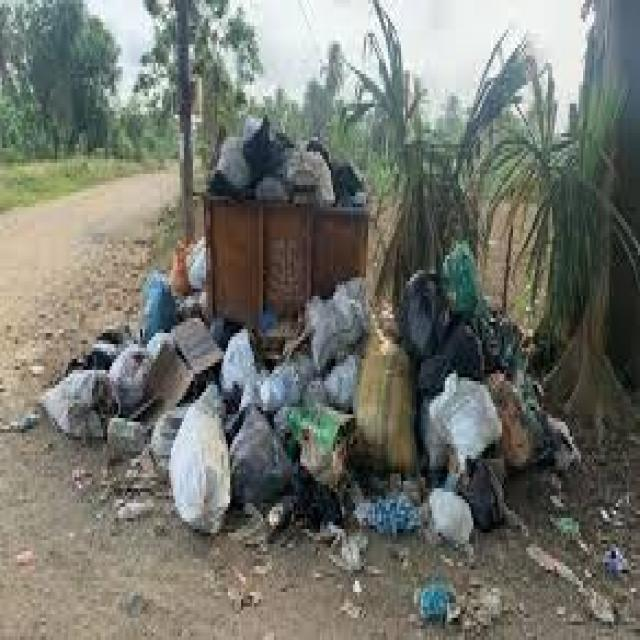Trashbag: (226, 408, 302, 506), (426, 332, 488, 401), (397, 272, 449, 351), (464, 467, 508, 526), (244, 126, 285, 176), (332, 160, 366, 201)
